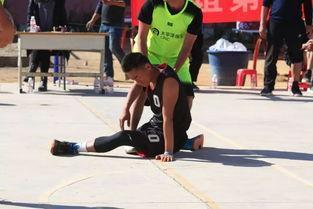Fall-Detected: (37, 43, 209, 166)
